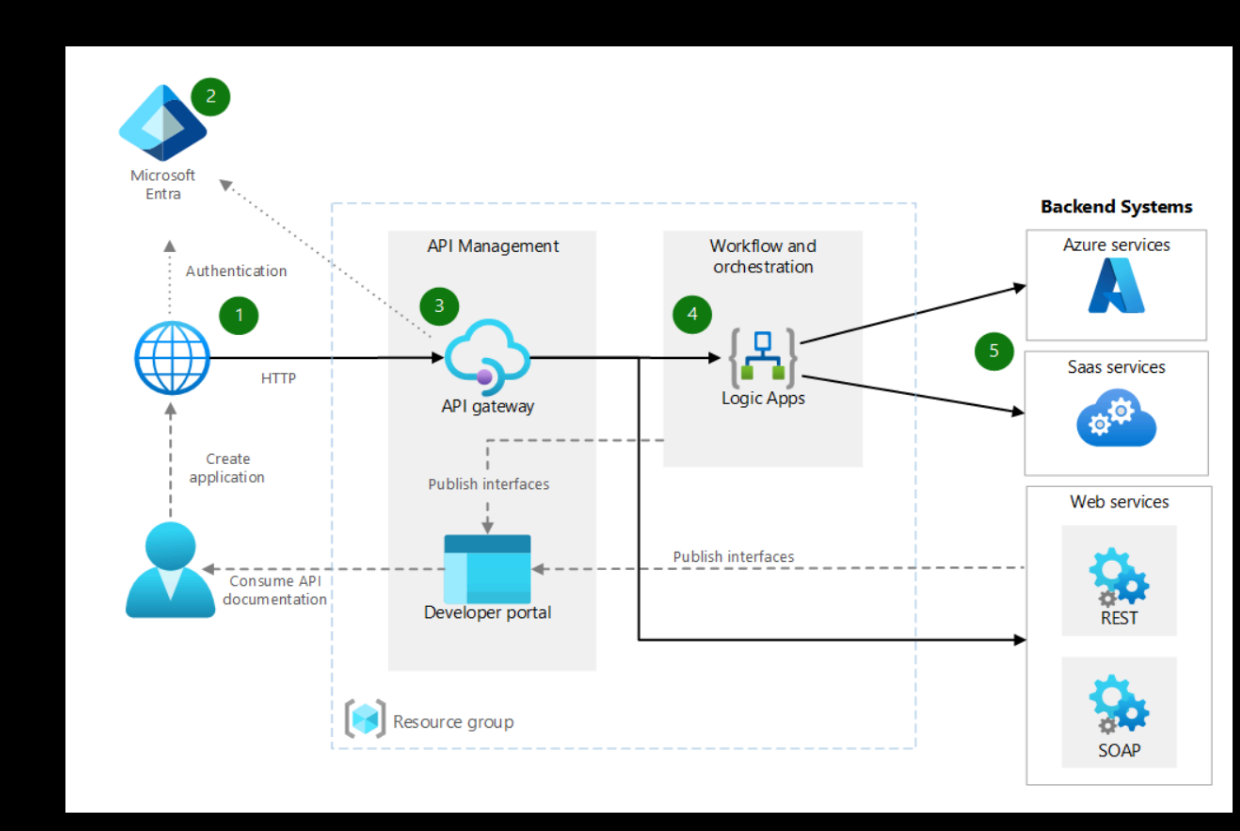api: (1084, 672, 1157, 762), (1082, 544, 1155, 629)
azure_services: (1057, 233, 1177, 319)
developer_portal: (438, 530, 532, 603)
logic_apps: (726, 320, 796, 389)
microsoft_entra: (113, 80, 211, 162), (441, 318, 532, 397)
resource_group: (131, 319, 212, 395), (340, 693, 388, 738)
sass_services: (1066, 382, 1164, 451)
user: (122, 522, 216, 619)
